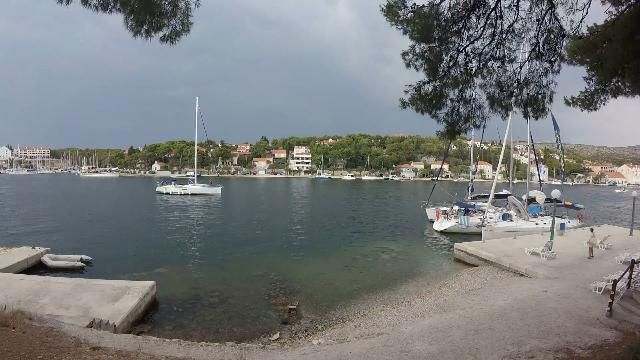Sailboat: (150, 175, 232, 201)
